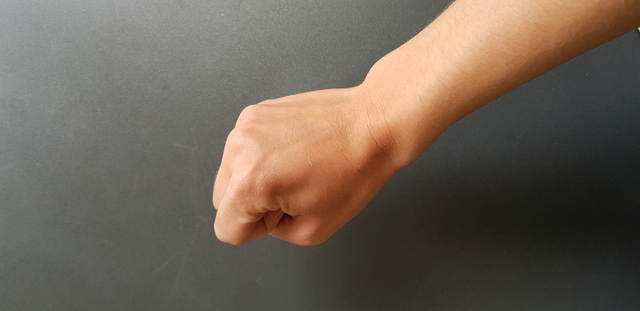Rock: (200, 82, 404, 272)
